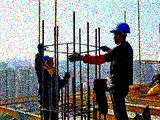helmet: (108, 22, 133, 43), (41, 55, 54, 69)
